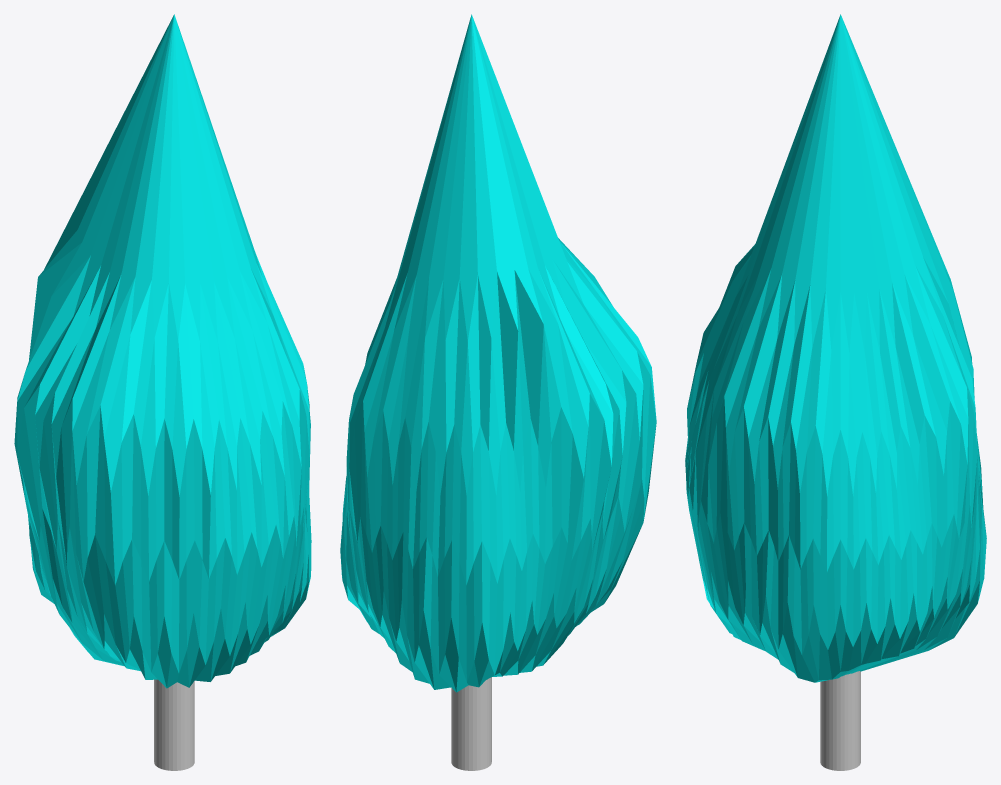
The model's file is tree.glb.
3 renders of one model, left to right at view 1: azimuth 30°, elevation 25°; view 2: azimuth 150°, elevation 25°; view 3: azimuth 270°, elevation 25°, orthographic.
Parts seen in each view (by area): view 1: Cone, Cylinder; view 2: Cone, Cylinder; view 3: Cone, Cylinder.
Part boxes in pixels (x1=…): Cone: x1=14, y1=14, x2=311, y2=688; Cylinder: x1=154, y1=679, x2=194, y2=770; Cone: x1=340, y1=14, x2=656, y2=692; Cylinder: x1=451, y1=677, x2=491, y2=770; Cone: x1=685, y1=14, x2=986, y2=682; Cylinder: x1=820, y1=671, x2=860, y2=770.
Size of the model in its own units: 1.53 by 4.07 by 1.49.
